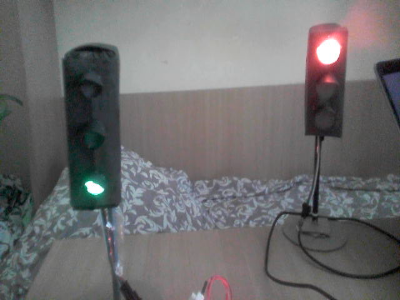trafficlight_green: (72, 55, 119, 209)
trafficlight_red: (309, 30, 346, 136)
